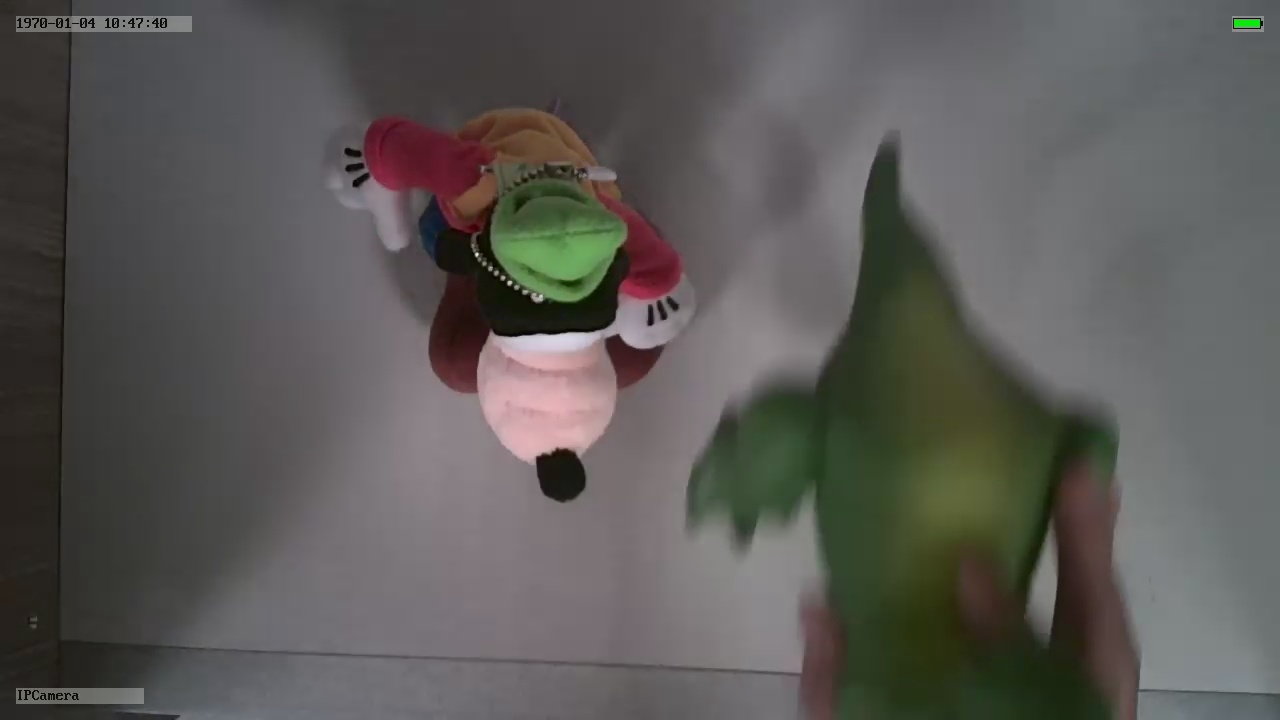goofy: (319, 104, 694, 508)
